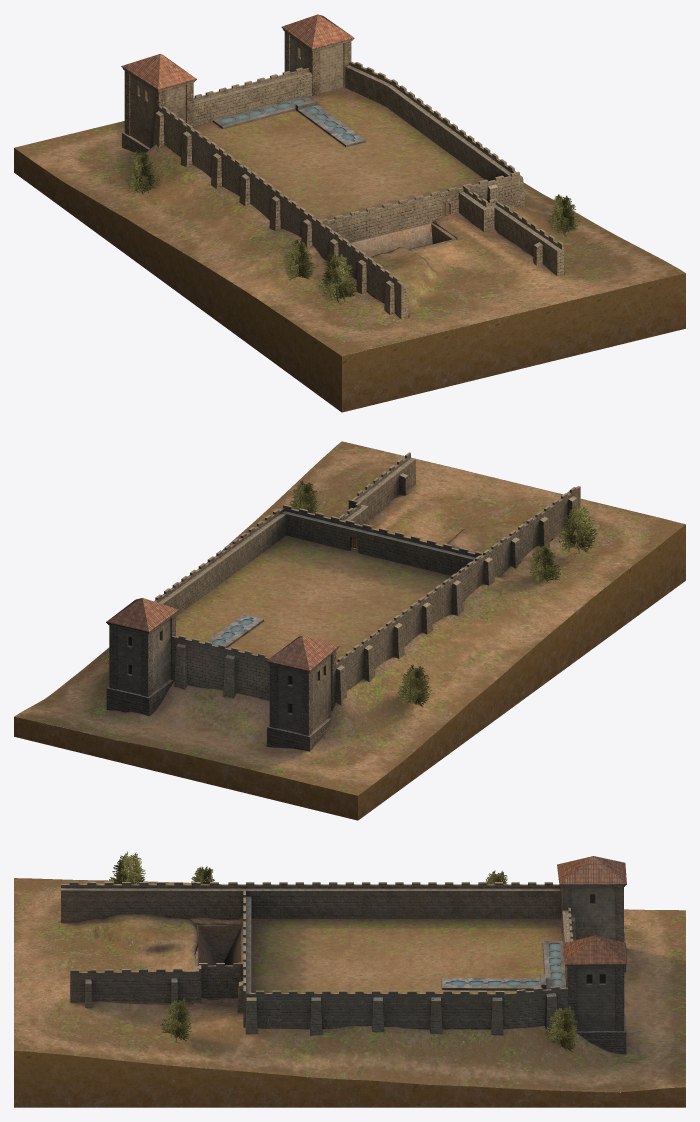
File: castillo_medina_sidonia.glb
3 renders of one model, top to bottom at view 1: azimuth 30°, elevation 25°; view 2: azimuth 150°, elevation 25°; view 3: azimuth 270°, elevation 25°, orthographic. The views are drawn at different scales.
Visible parts, largest first — view 1: Terreno1, Terreno2, Terreno3, Castellum_Muralla.001, Castellum_Muralla, Castellum_Torres, Tree_1_Environment_0.001; view 2: Terreno1, Terreno2, Terreno3, Castellum_Muralla, Castellum_Torres, Castellum_Muralla.001, Tree_1_Environment_0.001; view 3: Terreno1, Terreno3, Terreno2, Castellum_Muralla.001, Castellum_Muralla, Castellum_Torres, Tree_1_Environment_0.001.
Boxes of the visible parts, x1,y1,x2,y2 form: Terreno1: (14, 121, 685, 356); Terreno2: (14, 148, 685, 412); Terreno3: (193, 87, 484, 257); Castellum_Muralla.001: (320, 61, 563, 276); Castellum_Muralla: (153, 67, 408, 319); Castellum_Torres: (121, 14, 354, 152); Tree_1_Environment_0.001: (126, 150, 579, 305); Terreno1: (14, 441, 685, 795); Terreno2: (14, 524, 685, 820); Terreno3: (176, 535, 450, 660); Castellum_Muralla: (172, 486, 580, 705); Castellum_Torres: (106, 598, 339, 751); Castellum_Muralla.001: (154, 452, 482, 615); Tree_1_Environment_0.001: (106, 480, 597, 707); Terreno1: (14, 878, 685, 1092); Terreno3: (195, 918, 566, 993); Terreno2: (14, 1051, 685, 1107); Castellum_Muralla.001: (70, 891, 568, 1035); Castellum_Muralla: (61, 881, 576, 986); Castellum_Torres: (557, 856, 626, 1054); Tree_1_Environment_0.001: (109, 851, 578, 1051).
Bounding box in the file's own units: 0.7288 × 0.2574 × 1.2.
7 materials, 7 textured.
